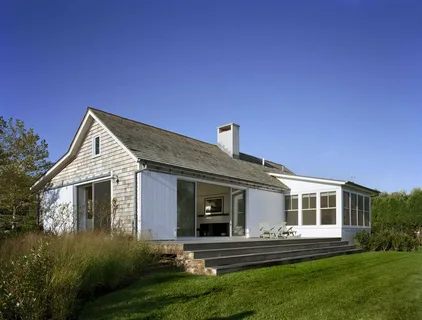private_hause: (77, 112, 371, 240)
